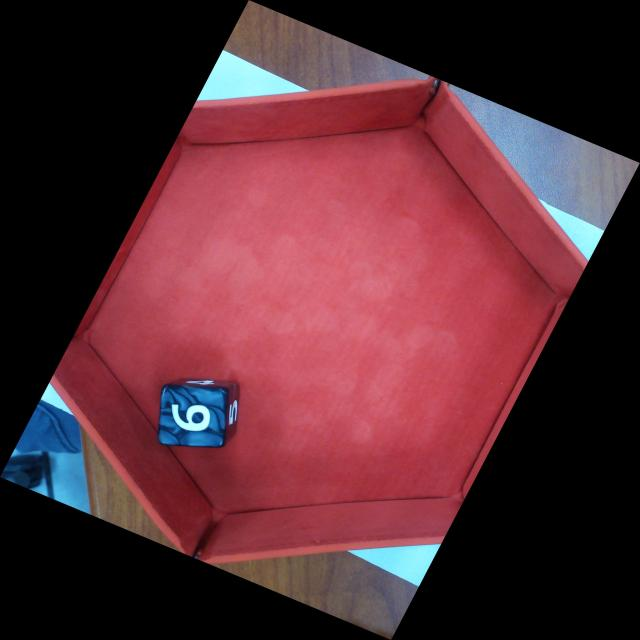dice: (160, 393, 223, 445)
